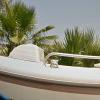Boat: (1, 39, 100, 100)
